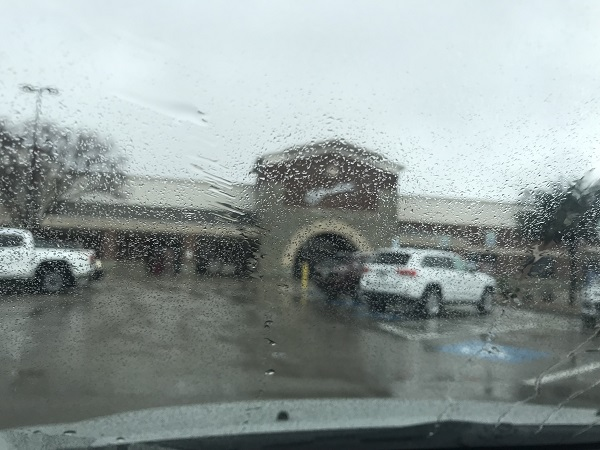car: (365, 248, 501, 318)
truck: (2, 227, 91, 293)
